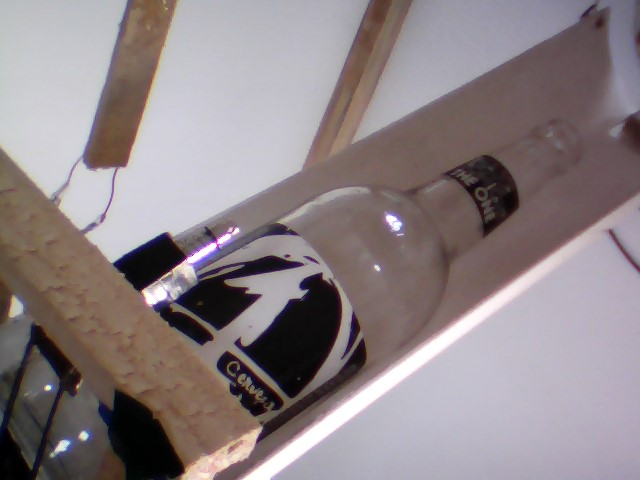vidrio: (207, 109, 599, 459)
